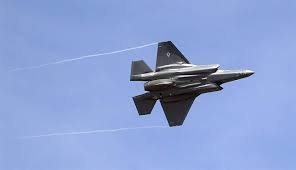fighter: (128, 39, 257, 129)
